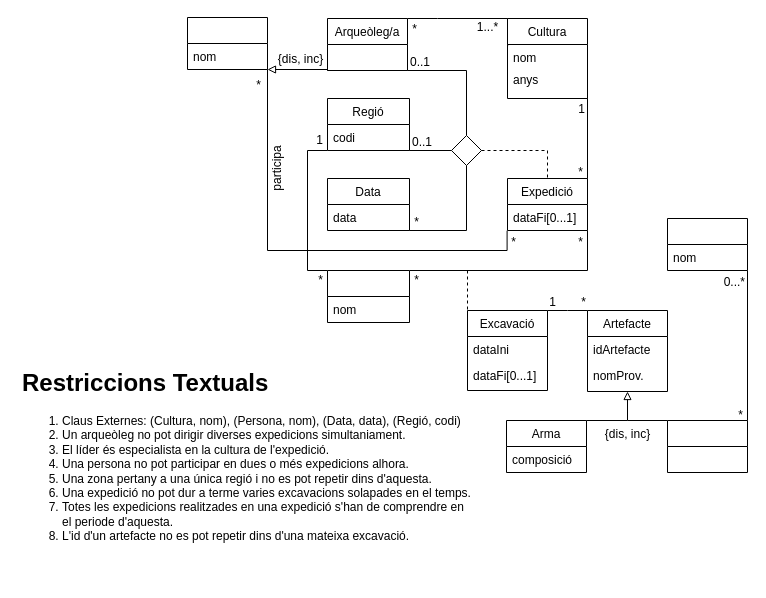
Image size: 766x598. Some labels were removed from this diagram. The box of each missing label's shape, as (x1, y1, x2, y2) in pixels:
Joia: (666, 420, 748, 472)
Pedra: (666, 218, 748, 270)
Persona: (186, 16, 268, 70)
Zona: (326, 270, 410, 322)
